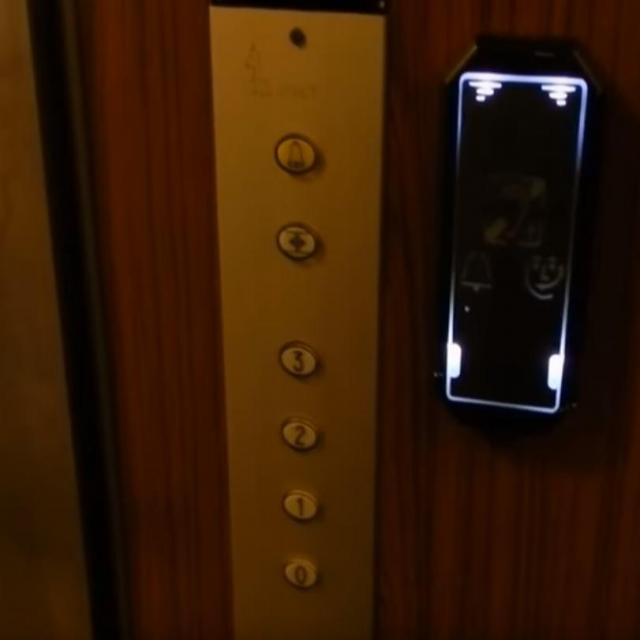0: (281, 557, 318, 589)
1: (281, 488, 320, 522)
2: (278, 415, 320, 452)
3: (276, 337, 319, 377)
alarm: (273, 132, 316, 174)
unknown: (275, 222, 318, 262)
